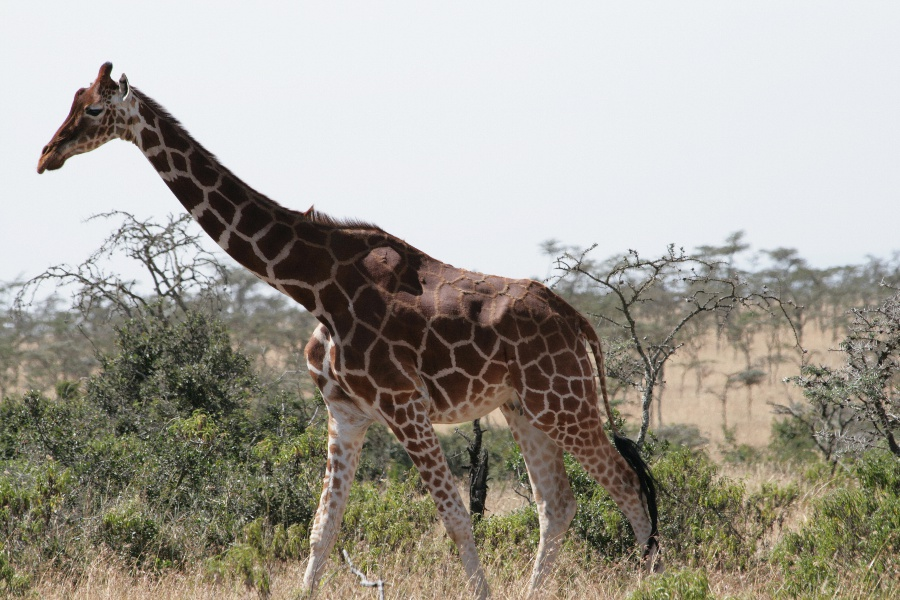giraffe: (27, 56, 674, 582)
